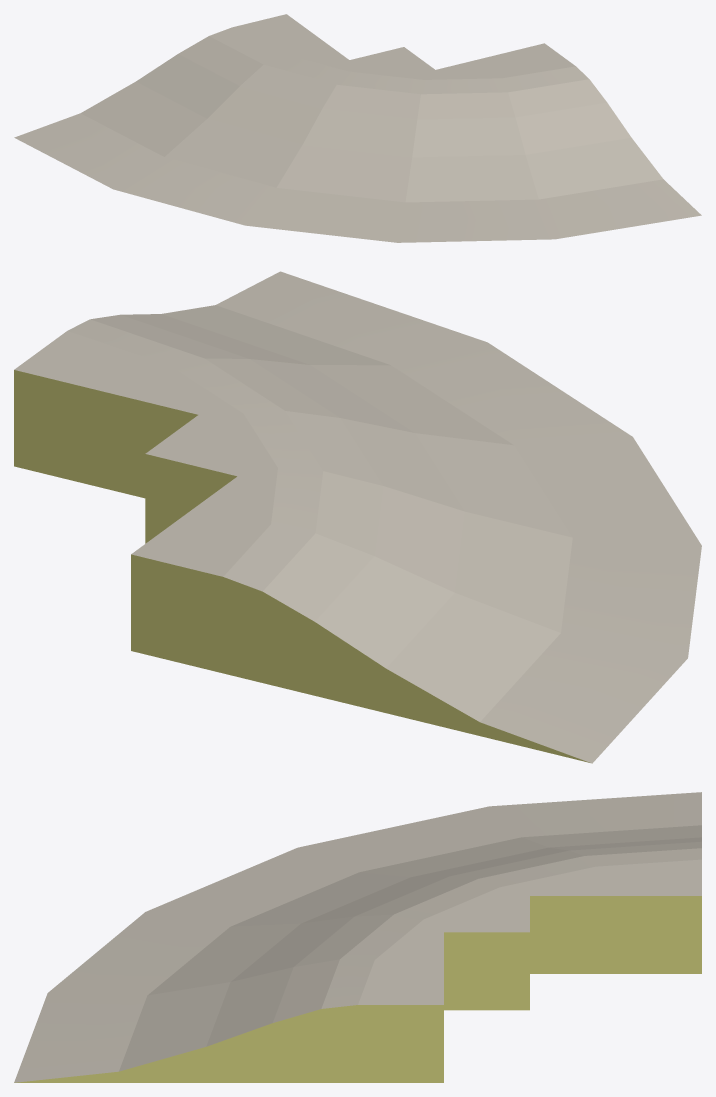
File: Floor_Curve_Outer_8x8.glb
3 views of the same model, one above another, from view 1: azimuth 30°, elevation 25°; view 2: azimuth 150°, elevation 25°; view 3: azimuth 270°, elevation 25° (orthographic). The views are drawn at different scales.
Parts seen in each view (by area): view 1: Floor_Curve_Outer_8x8; view 2: Floor_Curve_Outer_8x8; view 3: Floor_Curve_Outer_8x8.
Part boxes in pixels (x1,y1,x2,y2): Floor_Curve_Outer_8x8: [14, 14, 701, 242]; Floor_Curve_Outer_8x8: [14, 271, 701, 763]; Floor_Curve_Outer_8x8: [14, 792, 701, 1082].
Bounding box in the file's own units: 800 × 100 × 800.
